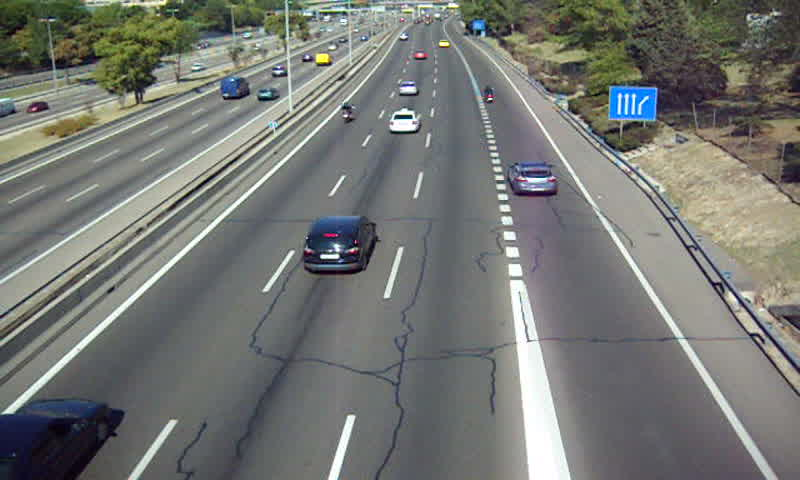car: (304, 214, 378, 270), (508, 162, 557, 196), (388, 109, 420, 133), (398, 80, 419, 96), (411, 50, 429, 61)
motorcycle: (339, 101, 355, 124), (482, 84, 494, 104)
